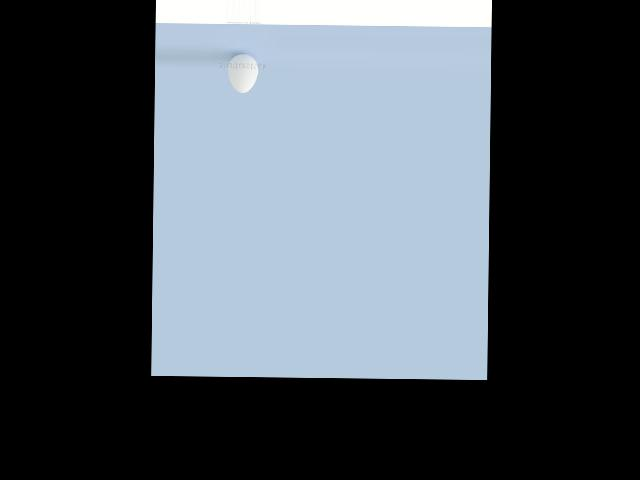egg: (227, 53, 258, 93)
